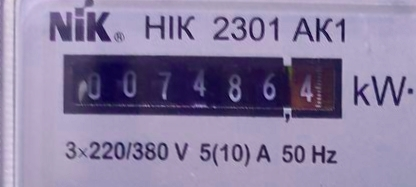0: (81, 69, 102, 103), (118, 67, 137, 100)
4: (187, 65, 206, 100), (295, 71, 313, 106)
6: (258, 71, 278, 103)
7: (150, 69, 174, 102)
8: (224, 72, 242, 107)
screen: (51, 43, 350, 131)
